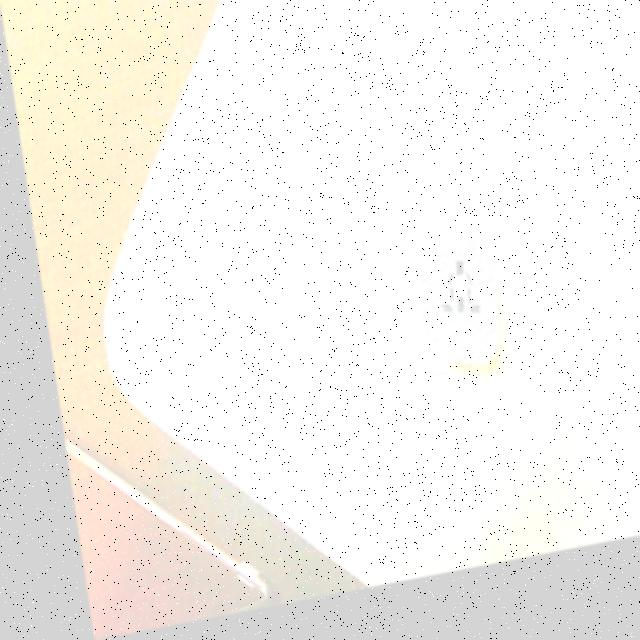adapter: (402, 257, 494, 390)
